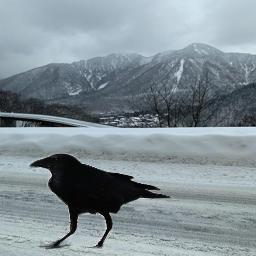Crow: (28, 153, 175, 251)
